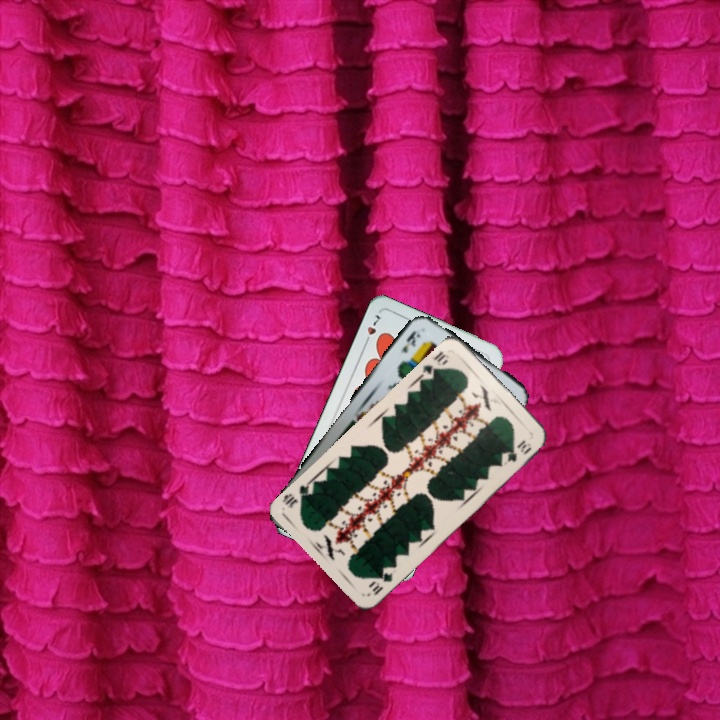EK: (398, 327, 423, 356)
G10: (418, 347, 452, 383), (364, 568, 395, 599)
H7: (361, 310, 383, 348)
